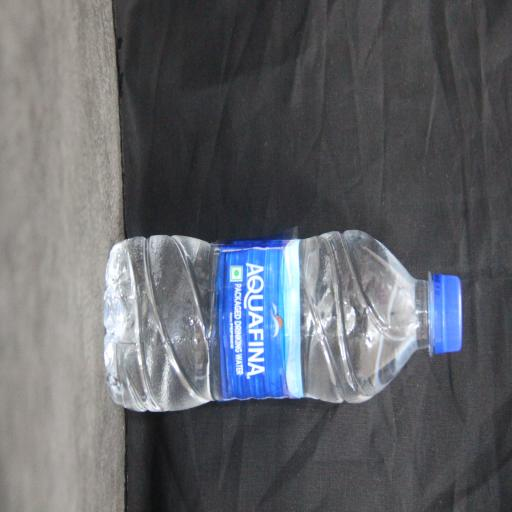Aquafina: (154, 75, 274, 512)
